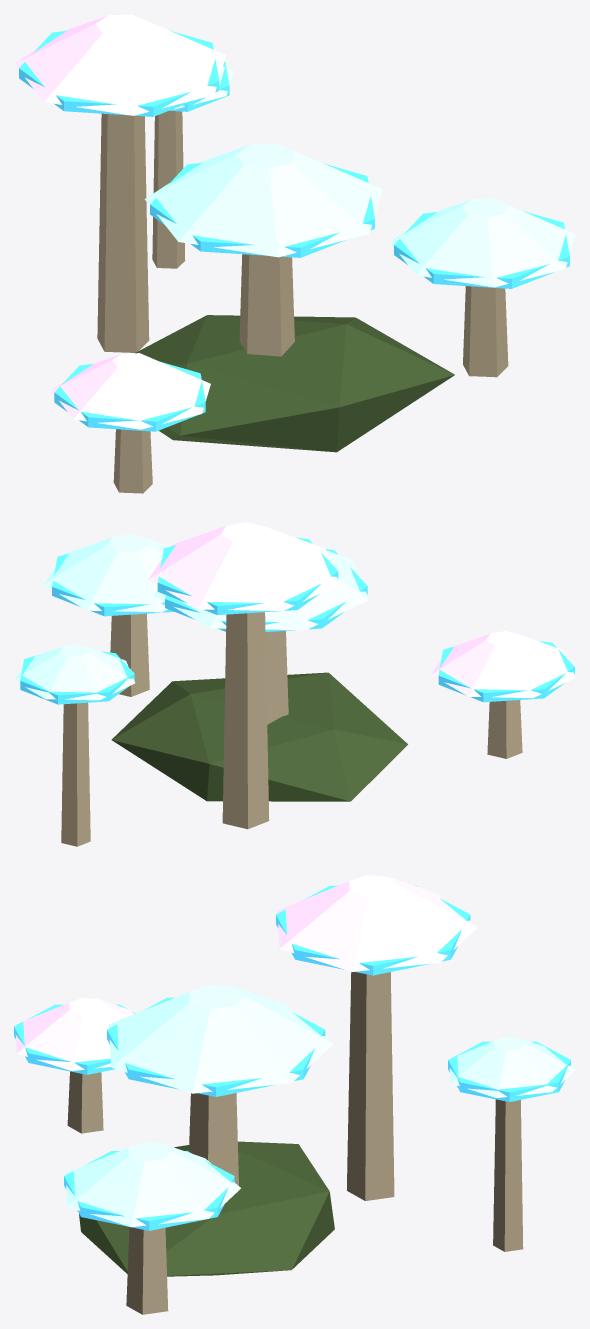
Rendered from glowcap_cluster_3.glb.
The picture shows the model from 3 angles, top to bottom: view 1: azimuth 30°, elevation 25°; view 2: azimuth 150°, elevation 25°; view 3: azimuth 270°, elevation 25°; orthographic projection. The views are drawn at different scales.
Visible parts, largest first — view 1: glowcap_cluster_3; view 2: glowcap_cluster_3; view 3: glowcap_cluster_3.
Boxes of the visible parts, box(x1,y1,x2,y2) form: glowcap_cluster_3: box(14, 14, 575, 493); glowcap_cluster_3: box(14, 522, 575, 846); glowcap_cluster_3: box(14, 875, 575, 1314).
Bounding box in the file's own units: 0.5538 × 0.3432 × 0.5249.
